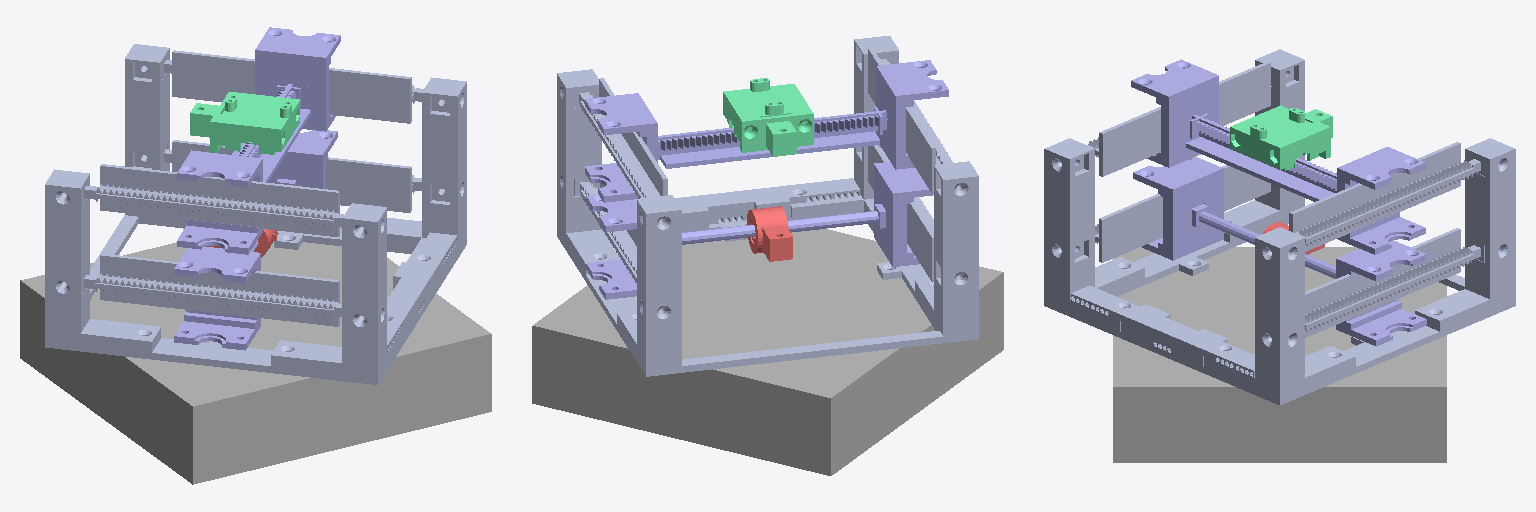
The robot description file, URDF, robot "robot_test":
<?xml version="1.0"?>
<!-- Revolute-Revolute Manipulator -->
<robot name="robot_test" xmlns:xacro="http://www.ros.org/wiki/xacro">

<link name="world"/>
    <link name="base_link">

<inertial>
            <origin xyz="0 0 0.0175" rpy="0 0 0" />
            <mass value="0.168" />
              <inertia ixx="0.0005" ixy="0" ixz="0" iyy="0.00049" iyz="0" izz="0.00097" />
        </inertial>

        <visual>
            <origin xyz="0 0 0.0175" rpy="0 0 0" />
            <geometry>
                <box size="0.14 0.14 0.035" />
            </geometry>
            <material name="">
                <color rgba="0.752941176470588 0.752941176470588 0.752941176470588 1" />
            </material>
        </visual>
        <collision>
            <origin xyz="0 0 0.0175" rpy="0 0 0" />
            <geometry>
                <box size="0.14 0.14 0.035" />
            </geometry>
        </collision>
    </link>

    <joint name="Joint0" type="fixed">
        <parent link="world" />
        <child link="base_link" />
    </joint>
 <link name="Link1">

<inertial>
            <origin xyz="0 0.04 0" rpy="0 0 0" />
            <mass value="0.125076916309071" />
            <inertia ixx="0.000213301900832475" ixy="7.20042983445819E-14" ixz="1.93294951442505E-15" iyy="0.000241629980148854" iyz="-3.15911644980272E-07" izz="15.71772481619727E-05" />
        </inertial>

        <visual>
            <origin xyz="0 0 0" rpy="0 0 0" />
            <geometry>
                <mesh filename="package://asm_robotv2_4/meshes/Link1.STL" />
            </geometry>
            <material name="">
                <color rgba="0.792156862745098 0.819607843137255 0.933333333333333 1" />
            </material>
        </visual>
        <collision>
            <origin xyz="0 0 0" rpy="0 0 0" />
            <geometry>
                <mesh filename="package://asm_robotv2_4/meshes/Link1.STL" />
            </geometry>
        </collision>
    </link>
    <joint name="Joint1" type="revolute">
        <origin xyz="0 0 0.04" rpy="1.5708 0 -2.3561" />
        <parent link="base_link" />
        <child link="Link1" />
        <axis xyz="0 1 0" />
        <limit effort="3" velocity="5.0" lower="-0.3" upper="0.3" />
        <dynamics damping="0.7"/>
    </joint>
    <link name="Link2">

<inertial>
            <origin xyz="0 0 0" rpy="0 0 0" />
            <mass value="0.0217880910599681" />
            <inertia ixx="0.000003227" ixy="0" ixz="0" iyy="0.00005049" iyz="0" izz="0.00005" />
        </inertial>
        <visual>
            <origin xyz="0 -0.015 0.02" rpy="-1.5708 1.5708 0" />
            <geometry>
                <mesh filename="package://asm_robotv2_4/meshes/Link2.STL" />
            </geometry>
            <material name="">
                <color rgba="0.752941176470588 0.752941176470588 1 1" />
            </material>
        </visual>
        <collision>
            <origin xyz="0 -0.015 0.02" rpy="-1.5708 1.5708 0" />
            <geometry>
                <mesh filename="package://asm_robotv2_4/meshes/Link2.STL" />
            </geometry>
        </collision>
    </link>
    <joint name="Joint2" type="prismatic">
        <origin xyz="0 0.068 0" rpy="0 0 0" />
        <parent link="Link1" />
        <child link="Link2" />
        <axis xyz="0 0 1" />
        <limit lower="-0.035" upper="0.035" effort="3" velocity="5.0"/>
        <dynamics damping="0.3"/>
    </joint>
  <link name="Link3_1">

<inertial>
            <origin xyz="0 0.001 0" rpy="-1.5708 0 0" />
            <mass value="0.00687392728317165" />
            <inertia ixx="4.68999634639831E-07"
        ixy="-6.61744490042422E-22"
        ixz="-1.20561574279604E-22"
        iyy="5.02478511000677E-07"
        iyz="1.21000404772896E-09"
        izz="8.02816429799795E-07" />
        </inertial>

        <visual>
            <origin xyz="0 0.001 0.02" rpy="-1.5708 0 0" />
            <geometry>
                <mesh filename="package://asm_robotv2_4/meshes/Link3_1.STL" />
            </geometry>
            <material name="">
                <color rgba="0.529411764705882 1 0.752941176470588 1" />
            </material>
        </visual>
        <collision>
            <origin xyz="0 0 0.02" rpy="-1.5708 0 0" />
            <geometry>
                <mesh filename="package://asm_robotv2_4/meshes/Link3_1.STL" />
            </geometry>
        </collision>
    </link>
    <joint name="Joint3_1" type="prismatic">
        <origin xyz="0 0 0" rpy="0 0 0" />
        <parent link="Link2" />
        <child link="Link3_1" />
        <axis xyz="1 0 0" />
        <limit lower="-0.03125" upper="0.03125" effort="3" velocity="5.0" />
        <dynamics damping="0.7"/>
    </joint>
    <link name="Link2_2">

<inertial>
            <origin xyz="0 0 0" rpy="0 0 0" />
            <mass value="0.0198869983841949" />
            <inertia ixx="0.000003227" ixy="0" ixz="0" iyy="0.00005049" iyz="0" izz="0.00005" />
        </inertial>

        <visual>
            <origin xyz="0 0.015 -0.013" rpy="-1.5708 1.5708 0" />
            <geometry>
                <mesh filename="package://asm_robotv2_4/meshes/Link2_2.STL" />
            </geometry>
            <material name="">
                <color rgba="0.752941176470588 0.752941176470588 1 1" />
            </material>
        </visual>
        <collision>
            <origin xyz="0 0.015 -0.013" rpy="-1.5708 1.5708 0" />
            <geometry>
                <mesh filename="package://asm_robotv2_4/meshes/Link2_2.STL" />
            </geometry>
        </collision>
    </link>
    <joint name="Joint2_2" type="prismatic">
        <origin xyz="0 0.028 0" rpy="0 0 0" />
        <parent link="Link1" />
        <child link="Link2_2" />
        <axis xyz="0 0 1" />
        <limit lower="-0.035" upper="0.035" effort="3" velocity="5.0" />
        <dynamics damping="0.7"/>
    </joint>
    <link name="Link3_2">

<inertial>
            <origin xyz="0 0 0" rpy="0 -1.5708 -1.5708" />
            <mass value="0.00392509494863912" />
            <inertia ixx="1.22511067255343E-07"
        ixy="-3.59085107182492E-09"
        ixz="1.01277926249461E-22"
        iyy="2.33144279565317E-07"
        iyz="-1.75258892284673E-23"
        izz="2.06480464452128E-07" />
        </inertial>

        <visual>
            <origin xyz="0 0.008 0.015" rpy="0 -1.5708 -1.5708" />
            <geometry>
                <mesh filename="package://asm_robotv2_4/meshes/Link3_2.STL" />
            </geometry>
            <material name="">
                <color rgba="1 0.501960784313725 0.501960784313725 1" />
            </material>
        </visual>
        <collision>
            <origin xyz="0 0.008 0.015" rpy="0 -1.5708 -1.5708" />
            <geometry>
                <mesh filename="package://asm_robotv2_4/meshes/Link3_2.STL" />
            </geometry>
        </collision>
    </link>
    <joint name="Joint3_2" type="prismatic">
        <origin xyz="0 0 0" rpy="0 0 0" />
        <parent link="Link2_2" />
        <child link="Link3_2" />
        <axis xyz="1 0 0" />
        <limit lower="-0.03125" upper="0.03125" effort="3" velocity="5.0" />
        <dynamics damping="0.7"/>
    </joint>

    <transmission name="trans_Joint1">
            <type>transmission_interface/SimpleTransmission</type>
            <joint name="Joint1">
                <hardwareInterface>hardware_interface/PositionJointInterface</hardwareInterface>
            </joint>
            <actuator name="Joint1_motor">
                <hardwareInterface>hardware_interface/PositionJointInterface</hardwareInterface>
                <mechanicalReduction>1</mechanicalReduction>
            </actuator>
        </transmission>
        <transmission name="trans_Joint2">
            <type>transmission_interface/SimpleTransmission</type>
            <joint name="Joint2">
                <hardwareInterface>hardware_interface/PositionJointInterface</hardwareInterface>
            </joint>
            <actuator name="Joint2_motor">
                <hardwareInterface>hardware_interface/PositionJointInterface</hardwareInterface>
                <mechanicalReduction>1</mechanicalReduction>
            </actuator>
        </transmission>
        <transmission name="trans_Joint3_1">
            <type>transmission_interface/SimpleTransmission</type>
            <joint name="Joint3_1">
                <hardwareInterface>hardware_interface/PositionJointInterface</hardwareInterface>
            </joint>
            <actuator name="Joint3_1_motor">
                <hardwareInterface>hardware_interface/PositionJointInterface</hardwareInterface>
                <mechanicalReduction>1</mechanicalReduction>
            </actuator>
        </transmission>
        <transmission name="trans_Joint2_2">
            <type>transmission_interface/SimpleTransmission</type>
            <joint name="Joint2_2">
                <hardwareInterface>hardware_interface/EffortJointInterface</hardwareInterface>
            </joint>
            <actuator name="Joint2_2_motor">
                <hardwareInterface>hardware_interface/EffortJointInterface</hardwareInterface>
                <mechanicalReduction>1</mechanicalReduction>
            </actuator>
        </transmission>
        <transmission name="trans_Joint3_2">
            <type>transmission_interface/SimpleTransmission</type>
            <joint name="Joint3_2">
                <hardwareInterface>hardware_interface/EffortJointInterface</hardwareInterface>
            </joint>
            <actuator name="Joint3_2_motor">
                <hardwareInterface>hardware_interface/EffortJointInterface</hardwareInterface>
                <mechanicalReduction>1</mechanicalReduction>
            </actuator>
        </transmission>
        <gazebo>
  <plugin name="gazebo_ros_control" filename="libgazebo_ros_control.so">
    <robotNamespace>/robot_test</robotNamespace>
    <robotSimType>gazebo_ros_control/DefaultRobotHWSim</robotSimType>
  </plugin>
</gazebo>
</robot>

--- What the picture shows (computed from the rendered views, not written in the file) ---
Views: 3 orthographic renders of the robot side by side, from view 1: azimuth 30°, elevation 25°; view 2: azimuth 150°, elevation 25°; view 3: azimuth 270°, elevation 25°.
Robot: robot_test — 7 links, 6 joints (1 revolute, 4 prismatic, 1 fixed); root link world; default pose: all joints at 0.
Links seen in each view (by area): view 1: Link1, base_link, Link2, Link2_2, Link3_1; view 2: base_link, Link1, Link2, Link2_2, Link3_1, Link3_2; view 3: Link1, base_link, Link2, Link2_2, Link3_1.
Link boxes in pixels (box(x1,y1,x2,y2)): Link1: box(45, 44, 466, 384); base_link: box(20, 241, 491, 484); Link2: box(177, 27, 340, 254); Link2_2: box(174, 130, 337, 350); Link3_1: box(190, 92, 299, 154); base_link: box(532, 229, 1003, 475); Link1: box(557, 36, 978, 376); Link2: box(585, 60, 948, 202); Link2_2: box(586, 162, 933, 299); Link3_1: box(723, 78, 813, 156); Link3_2: box(747, 206, 792, 261); Link1: box(1044, 49, 1515, 404); base_link: box(1113, 247, 1446, 462); Link2: box(1131, 59, 1425, 254); Link2_2: box(1133, 157, 1426, 346); Link3_1: box(1230, 105, 1332, 170).
Bounding box of the posed robot: 0.198 × 0.198 × 0.127 m (x, y, z).
Meshes: 5 distinct files referenced, 5 mesh visuals loaded (5 binary STL).